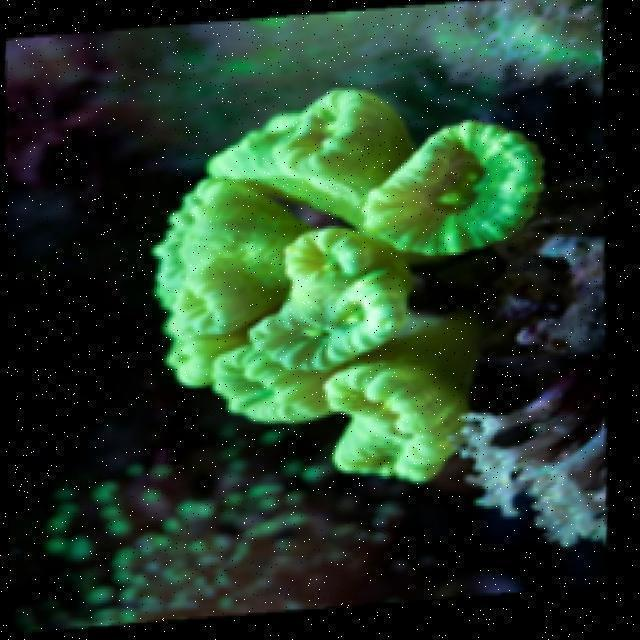Healthy Coral: (143, 65, 562, 480)
